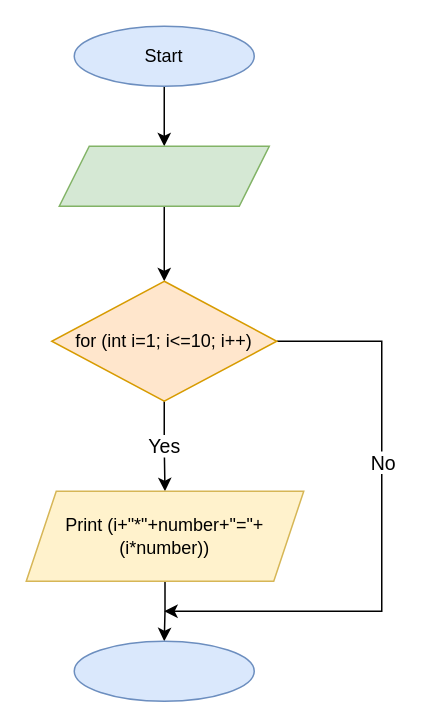
The diagram is 422 pixels wide and 728 high, and some of its shapes have lost their labels. Here are the shapes that lost their labels. From the top down, the centre of each, then its label:
At point (163, 175): "Input number".
At point (163, 670): "End".
